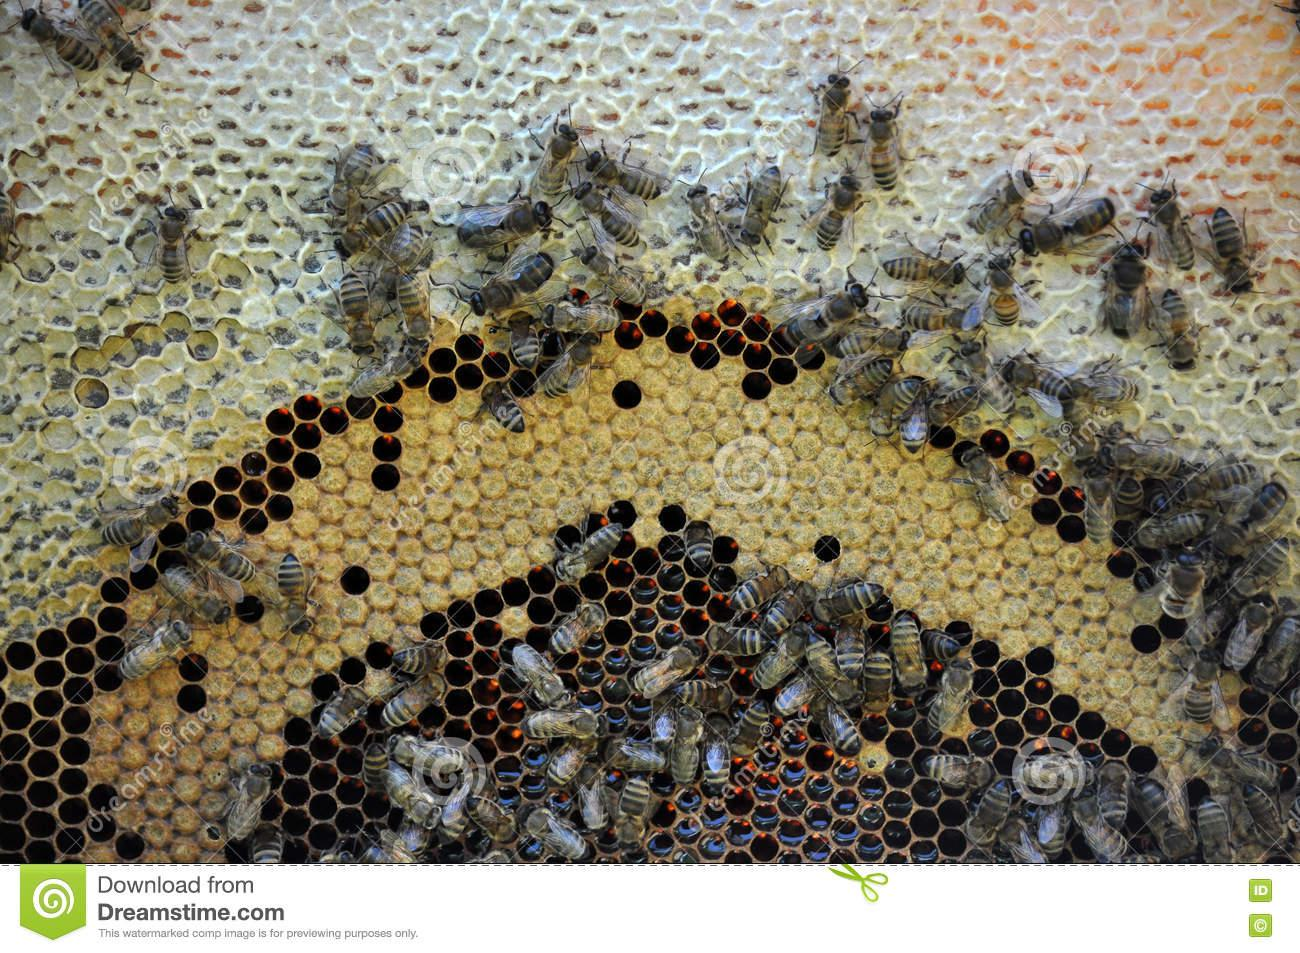bee: (77, 0, 144, 72), (18, 9, 97, 70), (957, 342, 1016, 413), (1198, 739, 1283, 787), (574, 183, 639, 245), (805, 634, 861, 707), (120, 619, 191, 675), (1209, 207, 1255, 295), (554, 522, 621, 580), (104, 496, 181, 546), (335, 204, 408, 256), (1148, 189, 1194, 271), (515, 646, 574, 710), (1069, 787, 1124, 855), (1230, 536, 1292, 597), (168, 566, 229, 627), (962, 445, 1010, 521), (578, 246, 643, 303), (684, 185, 732, 260), (388, 761, 440, 829), (518, 806, 585, 857), (225, 763, 269, 841), (635, 640, 702, 691), (1226, 594, 1274, 665), (544, 334, 597, 399), (186, 536, 261, 580), (588, 152, 662, 197), (380, 222, 424, 296), (1255, 618, 1300, 690), (930, 659, 975, 731), (749, 626, 803, 685), (741, 167, 781, 244), (1176, 462, 1255, 502), (279, 553, 316, 636), (977, 173, 1035, 226), (351, 351, 417, 397), (1183, 648, 1222, 724), (327, 144, 369, 214), (1005, 357, 1070, 403), (341, 272, 376, 354), (1106, 440, 1189, 475), (1161, 290, 1198, 367), (891, 613, 928, 693), (816, 579, 883, 622), (866, 110, 902, 189), (1129, 511, 1208, 547), (1059, 398, 1100, 466), (390, 735, 465, 772), (1248, 783, 1290, 850), (820, 177, 859, 248), (831, 358, 893, 403), (383, 677, 442, 724), (970, 780, 1011, 846), (548, 729, 600, 781), (538, 122, 576, 191), (984, 254, 1021, 324), (815, 702, 865, 753), (617, 774, 651, 850), (729, 565, 788, 609), (869, 382, 916, 435), (552, 604, 606, 651), (670, 709, 703, 784), (544, 301, 620, 333), (1186, 597, 1237, 644), (1198, 793, 1233, 862), (820, 74, 848, 157), (521, 714, 608, 741), (575, 762, 610, 831), (402, 277, 435, 347), (1001, 813, 1046, 865), (922, 754, 995, 785), (317, 690, 366, 736), (900, 302, 980, 330), (603, 738, 667, 772), (765, 587, 814, 632), (707, 621, 771, 654), (483, 381, 525, 432), (1083, 467, 1111, 541), (863, 649, 896, 711), (1011, 760, 1098, 783), (884, 259, 967, 284), (507, 315, 544, 368), (901, 387, 932, 452), (734, 702, 770, 756), (465, 793, 512, 836), (160, 206, 187, 280), (1098, 758, 1129, 820), (1071, 375, 1134, 404), (933, 386, 981, 424), (773, 674, 823, 712), (401, 790, 428, 857), (836, 615, 863, 678), (1041, 787, 1066, 856), (673, 677, 732, 707), (842, 329, 914, 352), (703, 719, 730, 782), (395, 645, 446, 677), (682, 522, 716, 567), (920, 629, 961, 663), (249, 828, 290, 861), (361, 843, 424, 862), (362, 745, 388, 789), (1145, 476, 1173, 514), (0, 191, 12, 267), (1118, 472, 1143, 508), (114, 0, 154, 14)
drone: (1207, 482, 1285, 559), (1133, 779, 1198, 861), (1019, 198, 1113, 253), (471, 250, 554, 311), (457, 198, 553, 249), (786, 282, 866, 338), (1107, 243, 1148, 339), (1161, 550, 1203, 618)
